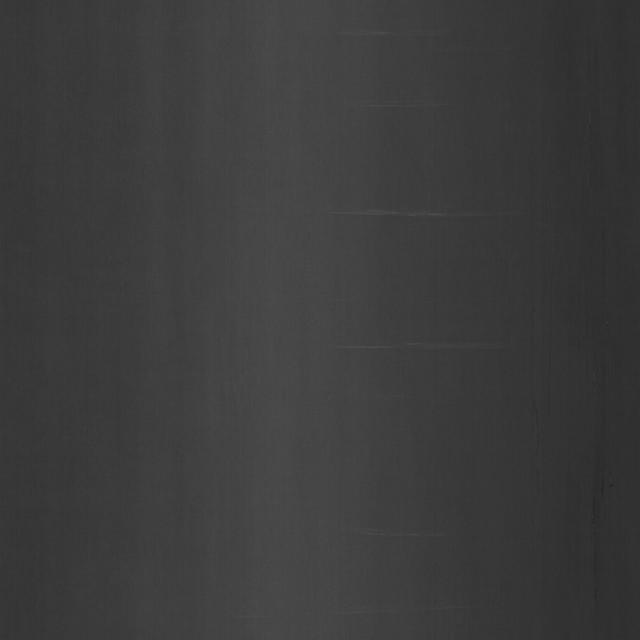punching_hole: (330, 56, 534, 573)
